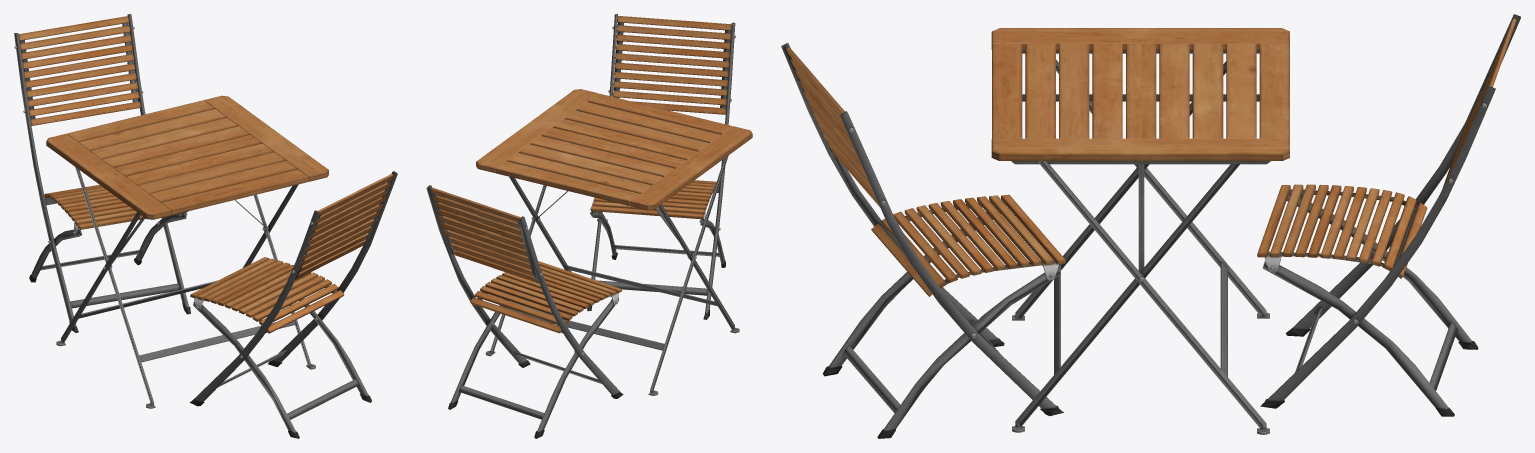
Rendered from table-set.glb.
The picture shows the model from 3 angles, left to right: view 1: azimuth 30°, elevation 25°; view 2: azimuth 150°, elevation 25°; view 3: azimuth 270°, elevation 25°; orthographic projection. The views are drawn at different scales.
Visible parts, largest first — view 1: outdoor_table_chair_set_01_chair_01, outdoor_table_chair_set_01_table; view 2: outdoor_table_chair_set_01_chair_01, outdoor_table_chair_set_01_table; view 3: outdoor_table_chair_set_01_table, outdoor_table_chair_set_01_chair_01.
Boxes of the visible parts, bbox=[...] form: outdoor_table_chair_set_01_chair_01: bbox=[14, 14, 397, 438]; outdoor_table_chair_set_01_table: bbox=[46, 95, 328, 408]; outdoor_table_chair_set_01_chair_01: bbox=[426, 14, 735, 438]; outdoor_table_chair_set_01_table: bbox=[476, 89, 752, 395]; outdoor_table_chair_set_01_table: bbox=[991, 28, 1289, 434]; outdoor_table_chair_set_01_chair_01: bbox=[781, 14, 1520, 438].
Bounding box in the file's own units: 0.7416 × 0.8579 × 1.72.
Materials: 2 (2 with a texture image).
